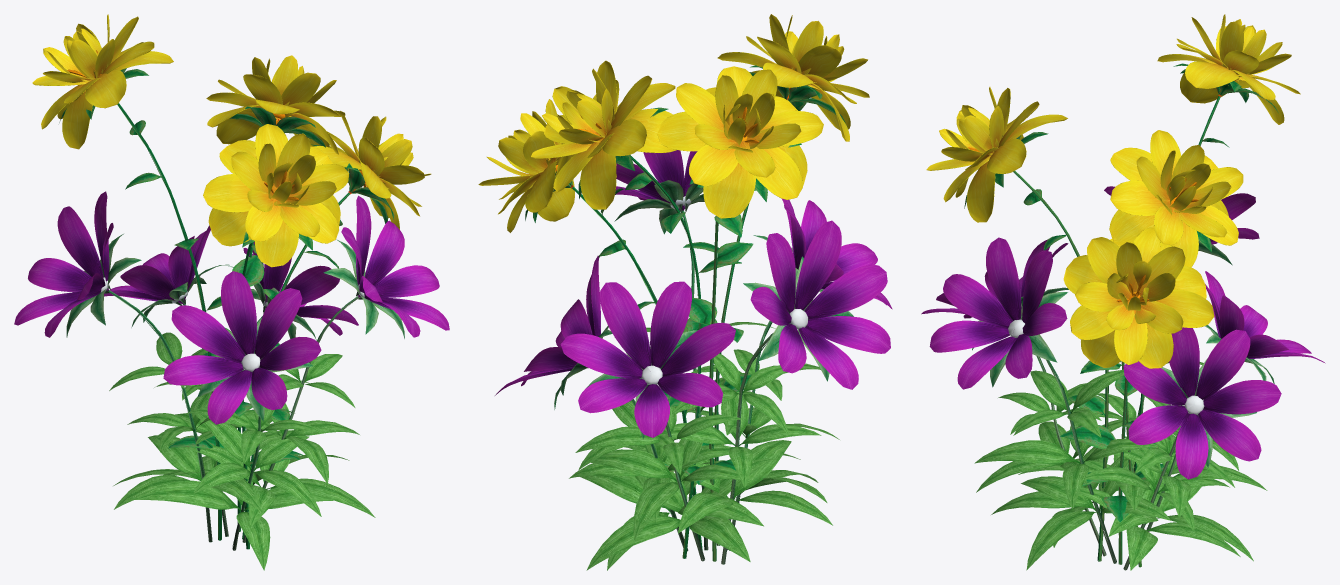
File: flower1.glb
The picture shows the model from 3 angles, left to right: view 1: azimuth 30°, elevation 25°; view 2: azimuth 150°, elevation 25°; view 3: azimuth 270°, elevation 25°; orthographic projection. The views are drawn at different scales.
Visible parts, largest first — view 1: Wide_leaf_2_Petal_wild_0, flower_patch_2_Petal_flower patch_0, flower_patch_2_Leaf_flower patch_0, Wide_leaf_2_Leaf_wild_0, flower_patch_2_Stem_flower patch_0; view 2: Wide_leaf_2_Petal_wild_0, flower_patch_2_Petal_flower patch_0, flower_patch_2_Leaf_flower patch_0, Wide_leaf_2_Leaf_wild_0, flower_patch_2_Stem_flower patch_0, flower_patch_2_Stigma_flower patch_0; view 3: Wide_leaf_2_Petal_wild_0, flower_patch_2_Petal_flower patch_0, flower_patch_2_Leaf_flower patch_0, Wide_leaf_2_Leaf_wild_0, flower_patch_2_Stem_flower patch_0, flower_patch_2_Stigma_flower patch_0.
Part boxes in pixels (x1,y1,x2,y2): Wide_leaf_2_Petal_wild_0: [32, 14, 431, 267]; flower_patch_2_Petal_flower patch_0: [14, 191, 449, 424]; flower_patch_2_Leaf_flower patch_0: [109, 332, 375, 570]; Wide_leaf_2_Leaf_wild_0: [59, 68, 394, 549]; flower_patch_2_Stem_flower patch_0: [66, 234, 404, 550]; Wide_leaf_2_Petal_wild_0: [478, 14, 869, 232]; flower_patch_2_Petal_flower patch_0: [495, 150, 892, 437]; flower_patch_2_Leaf_flower patch_0: [569, 322, 839, 570]; Wide_leaf_2_Leaf_wild_0: [525, 65, 846, 561]; flower_patch_2_Stem_flower patch_0: [554, 180, 853, 564]; flower_patch_2_Stigma_flower patch_0: [588, 196, 807, 384]; Wide_leaf_2_Petal_wild_0: [926, 14, 1300, 368]; flower_patch_2_Petal_flower patch_0: [921, 186, 1325, 479]; flower_patch_2_Leaf_flower patch_0: [974, 362, 1267, 570]; Wide_leaf_2_Leaf_wild_0: [964, 63, 1278, 567]; flower_patch_2_Stem_flower patch_0: [972, 241, 1274, 570]; flower_patch_2_Stigma_flower patch_0: [1008, 316, 1204, 414].
Bounding box in the file's own units: 0.4506 × 0.5863 × 0.4261.
Materials: 7 (7 with a texture image).
